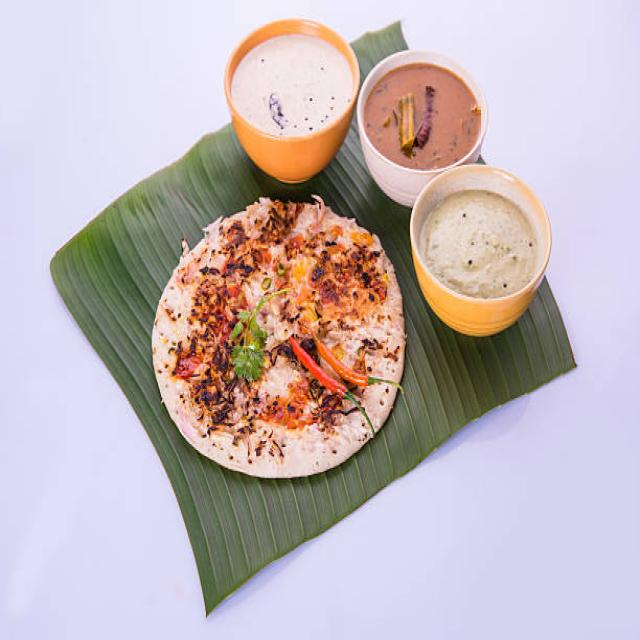DOSA: (151, 205, 403, 476)
SAMBAR: (371, 71, 479, 165)
WHITE CHUTNEY: (235, 37, 353, 134), (428, 193, 536, 290)
